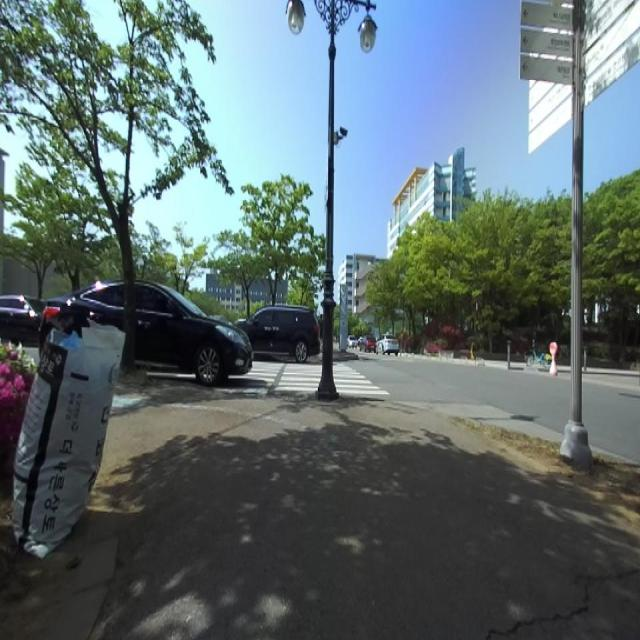sidewalk: (0, 377, 640, 639)
